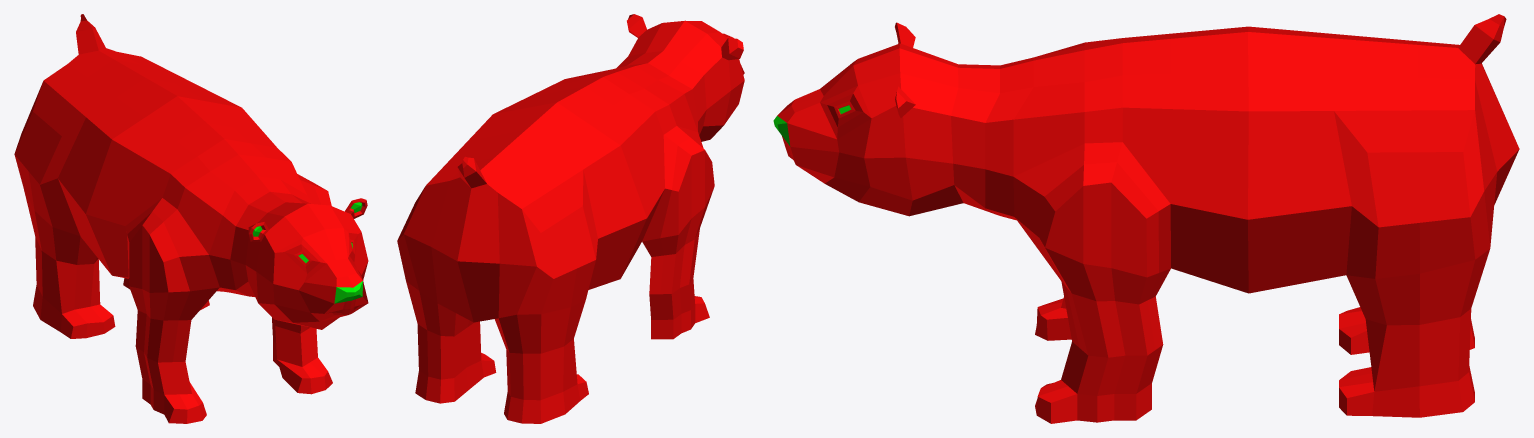
Rendered from meska2.glb.
3 renders of one model, left to right at view 1: azimuth 30°, elevation 25°; view 2: azimuth 150°, elevation 25°; view 3: azimuth 270°, elevation 25°, orthographic. The views are drawn at different scales.
Visible parts, largest first — view 1: meska; view 2: meska; view 3: meska.
Part boxes in pixels (x1=…): meska: x1=14, y1=14, x2=368, y2=423; meska: x1=397, y1=14, x2=744, y2=423; meska: x1=773, y1=14, x2=1519, y2=423.
Bounding box in the file's own units: 1.5 × 2.08 × 3.95.
Materials: 1 (1 with a texture image).
